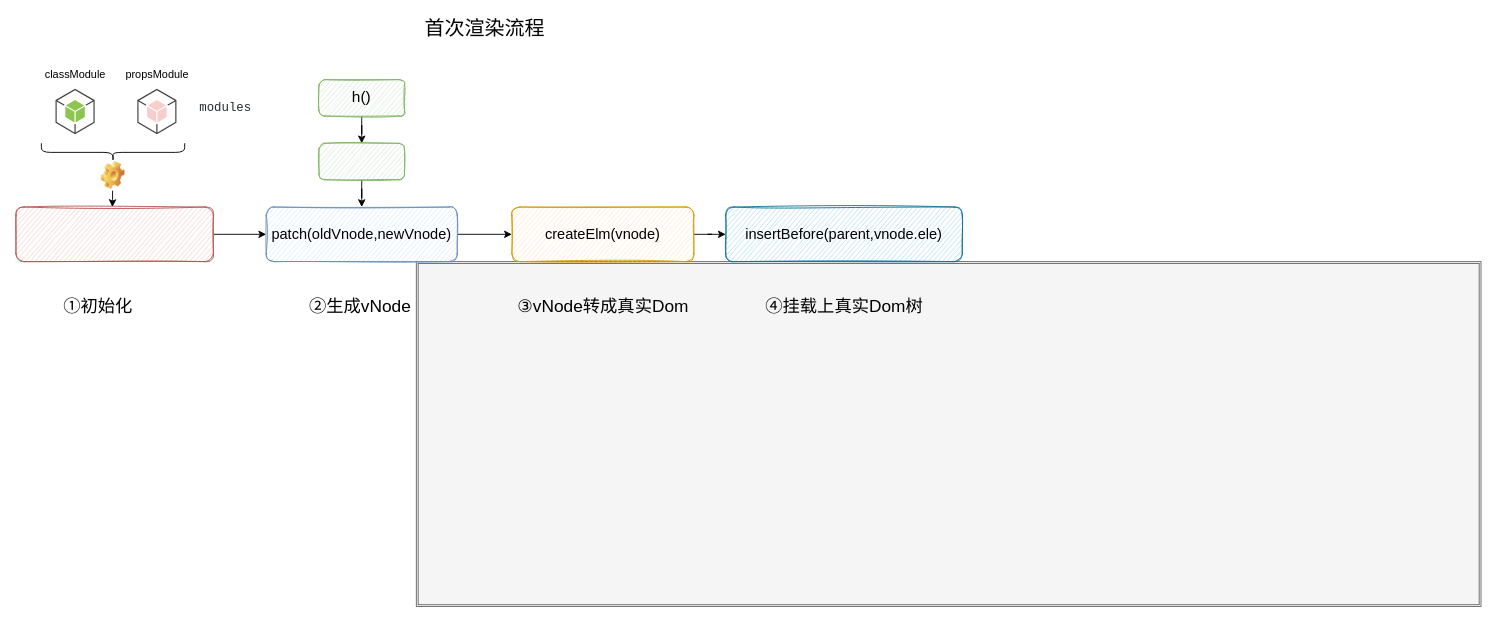
This 1497x622 diagram has some shape labels left out. Here are the shapes that lost their labels. From the top down, the centre of each, then its label:
the point at 361,161: vnode
the point at 114,234: init([ classModule , propsModule ])
